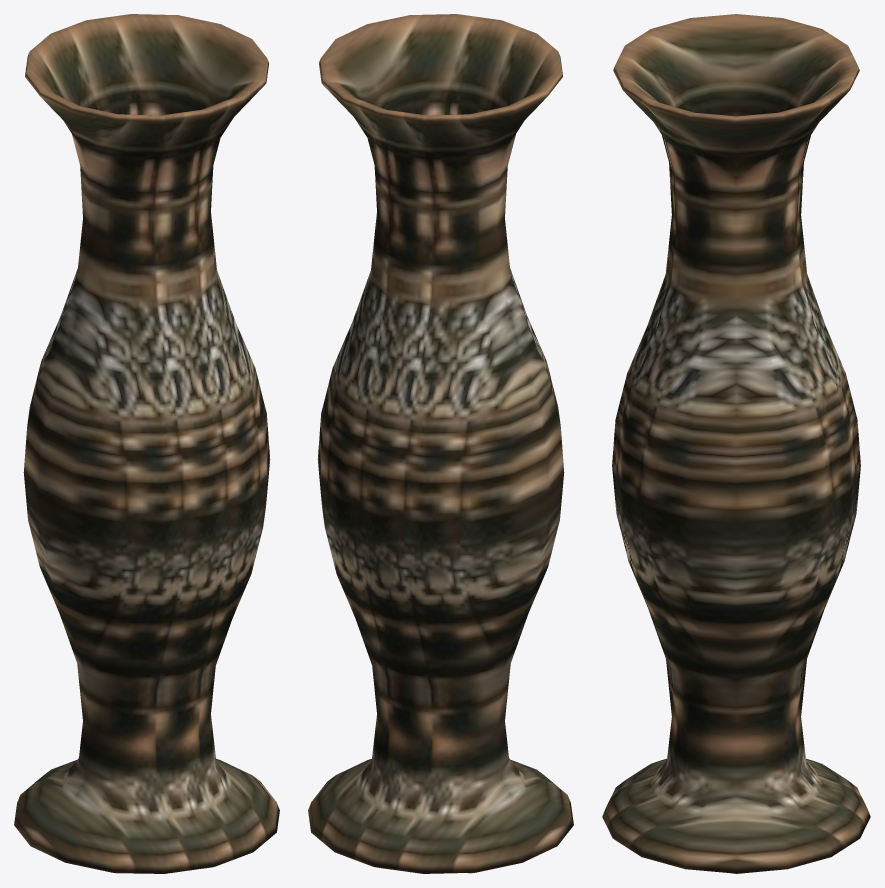
The model's file is God_tables_vase.fbx.
3 renders of one model, left to right at view 1: azimuth 30°, elevation 25°; view 2: azimuth 150°, elevation 25°; view 3: azimuth 270°, elevation 25°, orthographic.
Parts seen in each view (by area): view 1: God_tables_vase; view 2: God_tables_vase; view 3: God_tables_vase.
Boxes of the visible parts, x1,y1,x2,y2 form: God_tables_vase: (14,14,279,873); God_tables_vase: (308,14,573,873); God_tables_vase: (602,14,870,873).
Size of the model in its own units: 0.0635 by 0.1984 by 0.0635.
Materials: 1 (1 with a texture image).
